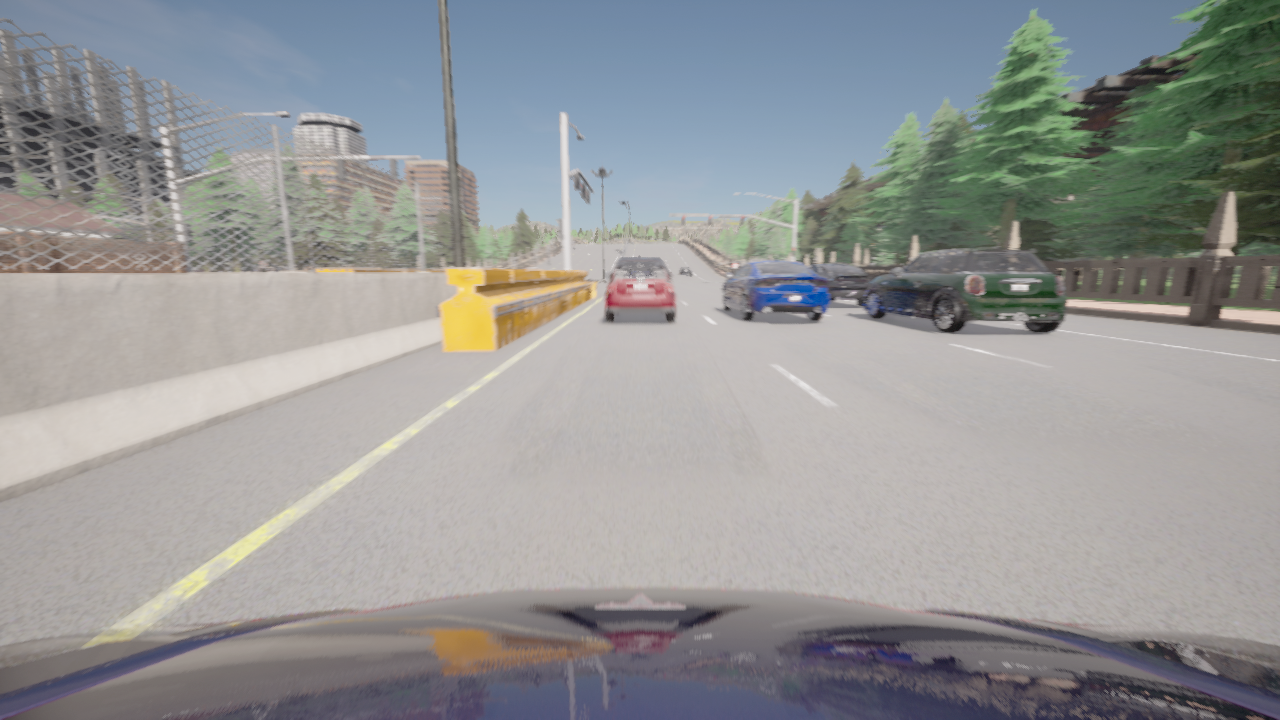cyclist: (0, 588, 1279, 719), (864, 243, 1066, 333), (722, 259, 828, 321), (604, 258, 675, 322), (807, 263, 871, 306), (678, 266, 690, 275), (611, 270, 612, 272)
